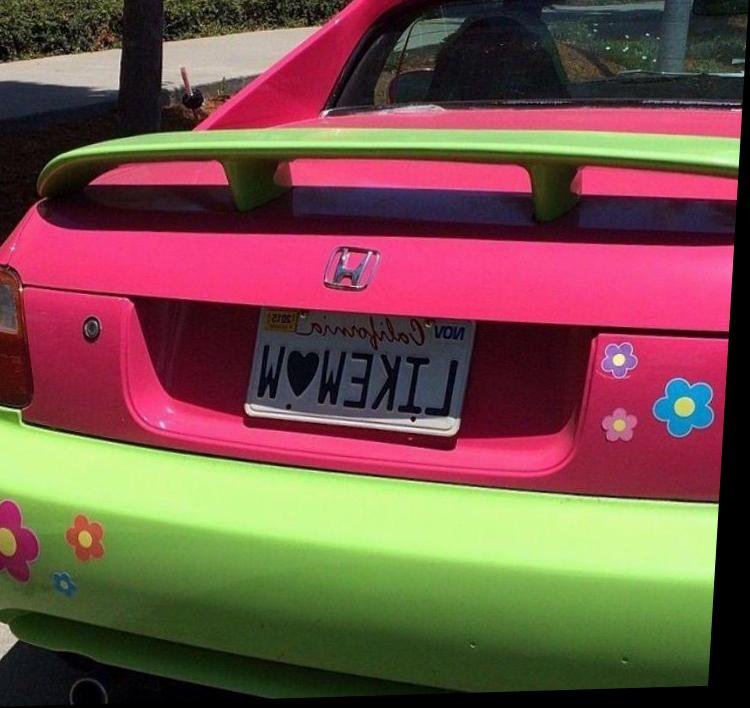License_Plate: (238, 297, 484, 449)
